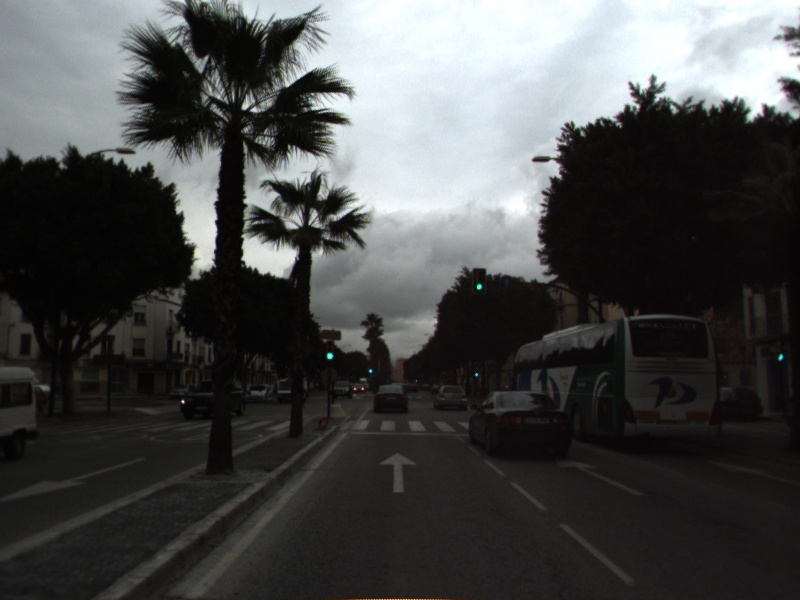STRAIGHT: (554, 455, 648, 498), (703, 457, 800, 487), (377, 450, 420, 495)
